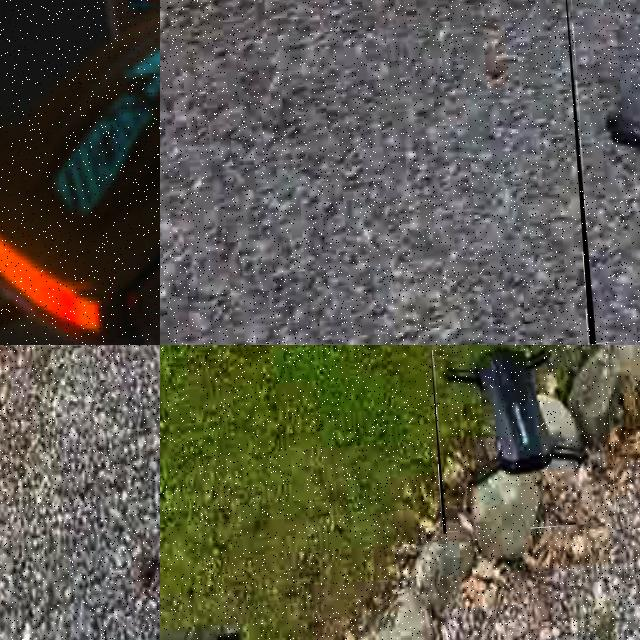0: (429, 345, 616, 533), (560, 0, 640, 343)
drone: (0, 0, 160, 345)
